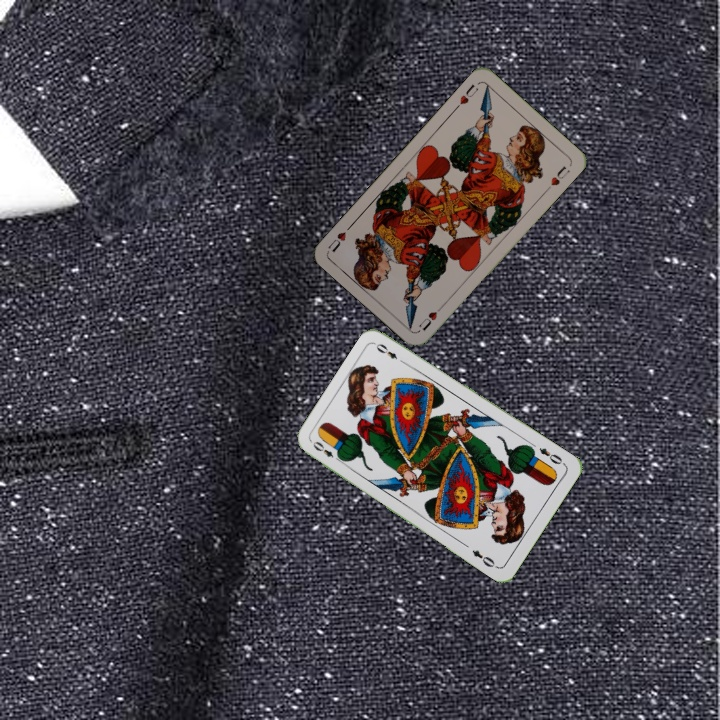EO: (309, 437, 345, 465), (535, 444, 568, 468)
HU: (415, 301, 446, 333), (451, 80, 481, 113)
